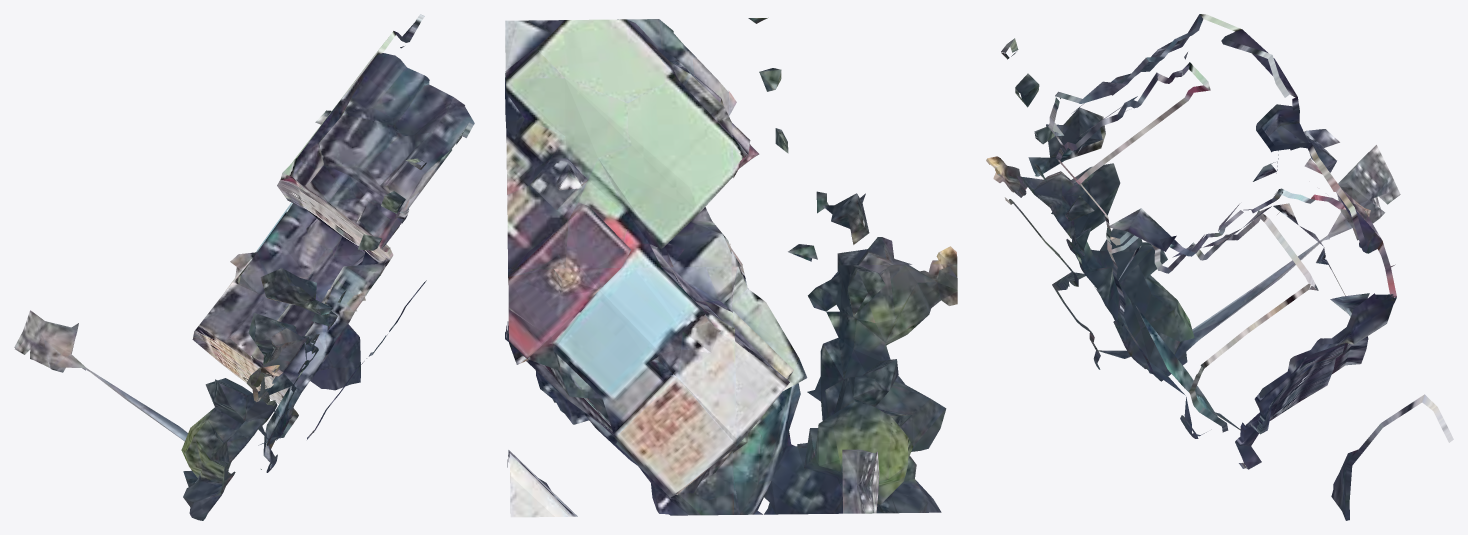
3 views of the same model, side by side, from view 1: azimuth 30°, elevation 25°; view 2: azimuth 150°, elevation 25°; view 3: azimuth 270°, elevation 25° (orthographic). The views are drawn at different scales.
Size of the model in its own units: 38.84 by 40.12 by 34.14.
2 materials, 2 textured.
